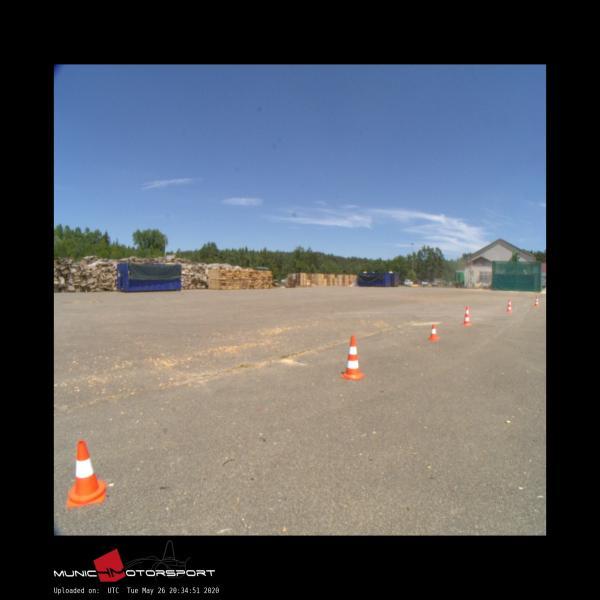large_orange_cone: (340, 335, 364, 379), (462, 306, 471, 325), (506, 298, 512, 312), (534, 296, 539, 306)
orange_cone: (67, 441, 106, 507), (429, 324, 438, 339)
